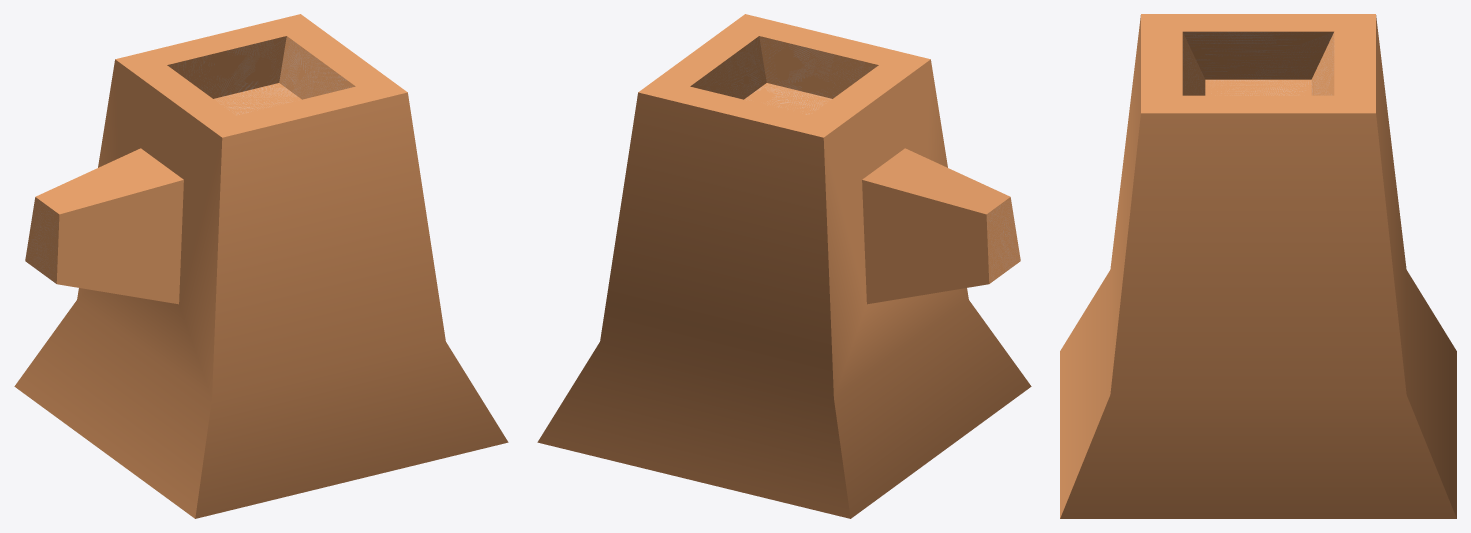
File: treeStump_side.obj
3 renders of one model, left to right at view 1: azimuth 30°, elevation 25°; view 2: azimuth 150°, elevation 25°; view 3: azimuth 270°, elevation 25°, orthographic. The views are drawn at different scales.
Parts seen in each view (by area): view 1: treeStump_side; view 2: treeStump_side; view 3: treeStump_side.
Part boxes in pixels (bbox=[...]): treeStump_side: bbox=[14, 14, 508, 518]; treeStump_side: bbox=[537, 14, 1031, 518]; treeStump_side: bbox=[1060, 14, 1456, 518].
Size of the model in its own units: 3.39 by 2.9 by 2.81.
